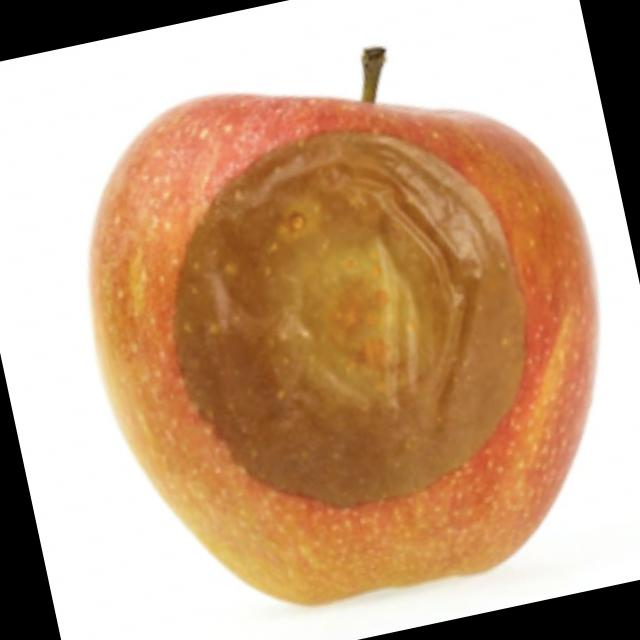rotten_apple: (45, 16, 640, 639)
